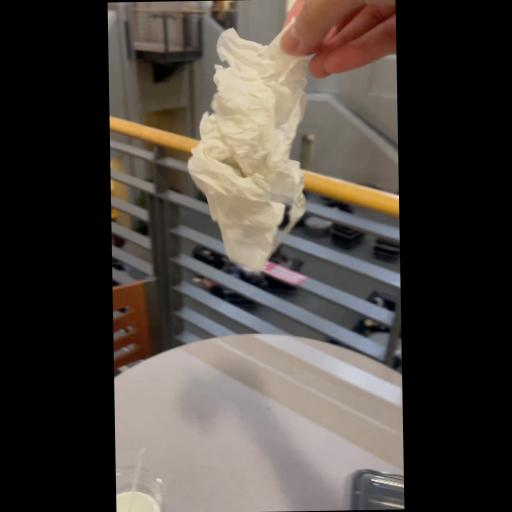napkin: (185, 22, 315, 272)
